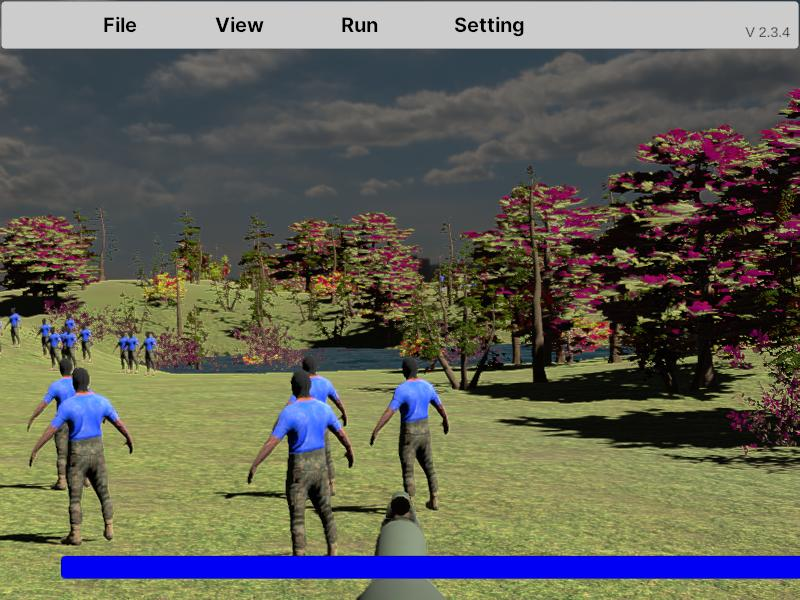Human: (247, 368, 355, 565), (29, 365, 134, 546), (370, 355, 449, 513), (27, 357, 110, 489)
